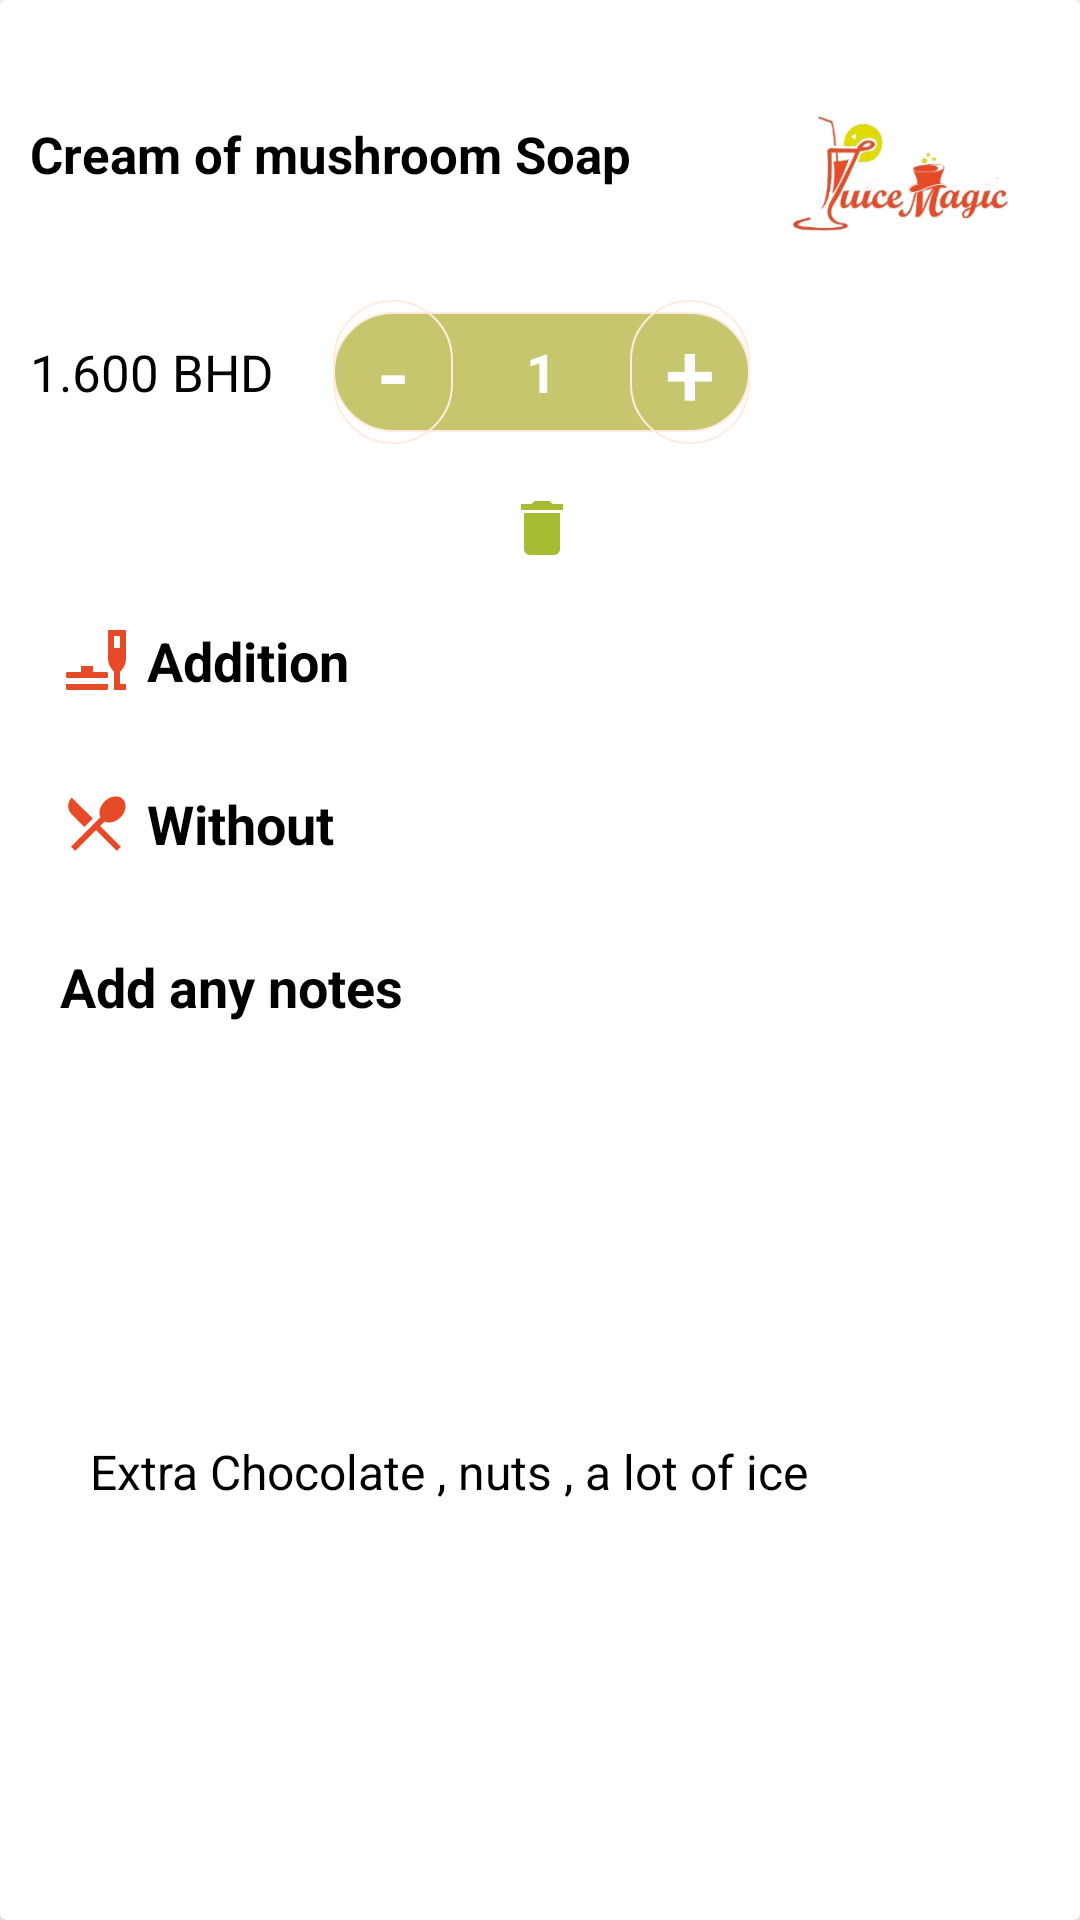

Screen size 1080×1920. Icon name, then its center in pixels as [x,y]:
delete: [542,528]
